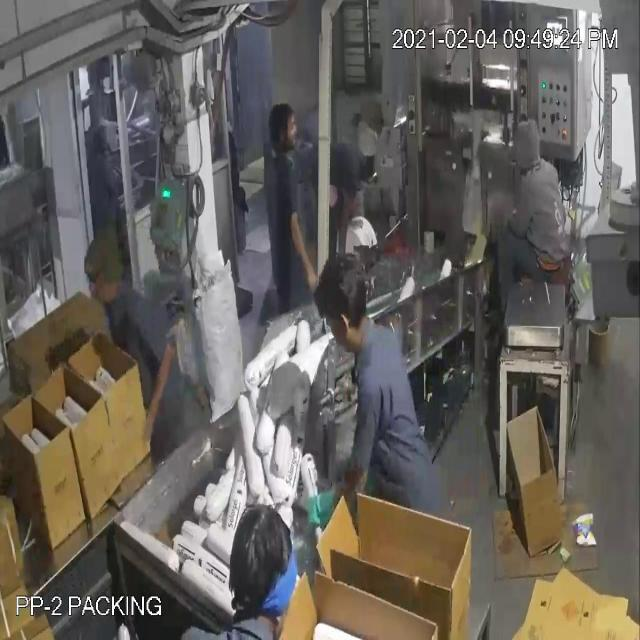No_Gloves: (45, 81, 325, 512)
